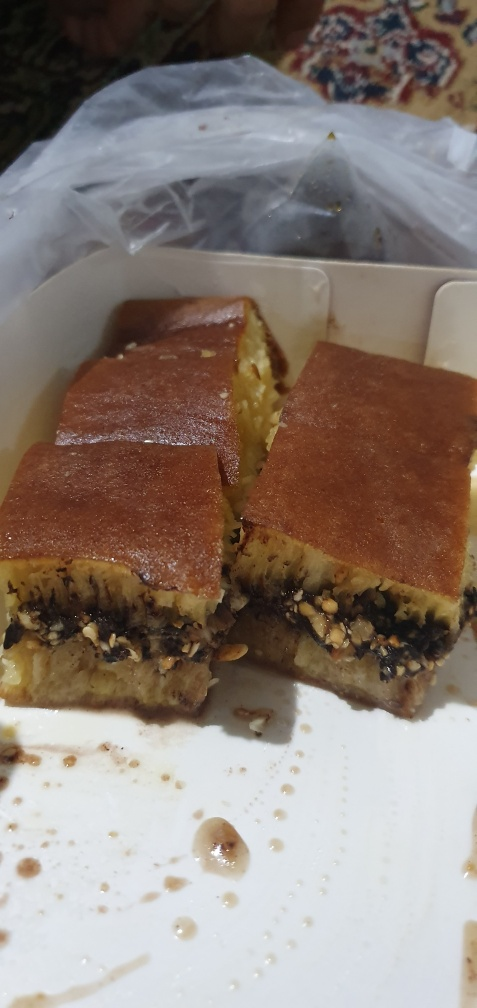martabak manis: (255, 417, 475, 726), (1, 439, 233, 723)
